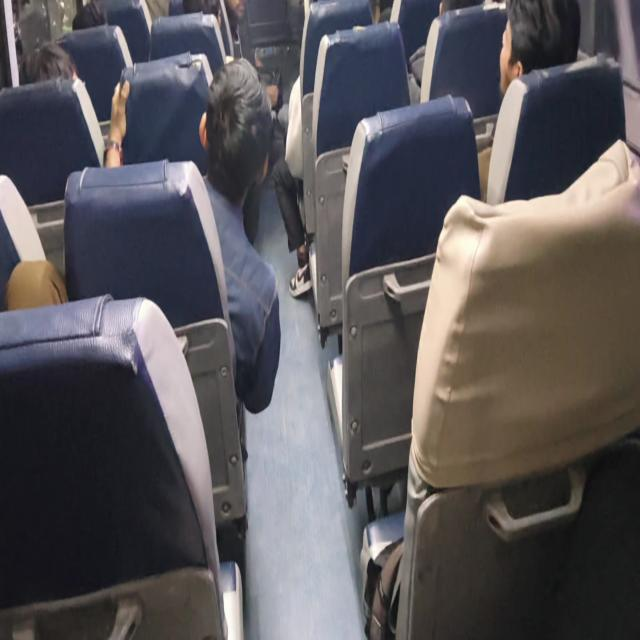person: (103, 55, 281, 469), (474, 0, 582, 201), (19, 40, 106, 166), (497, 0, 581, 99)
